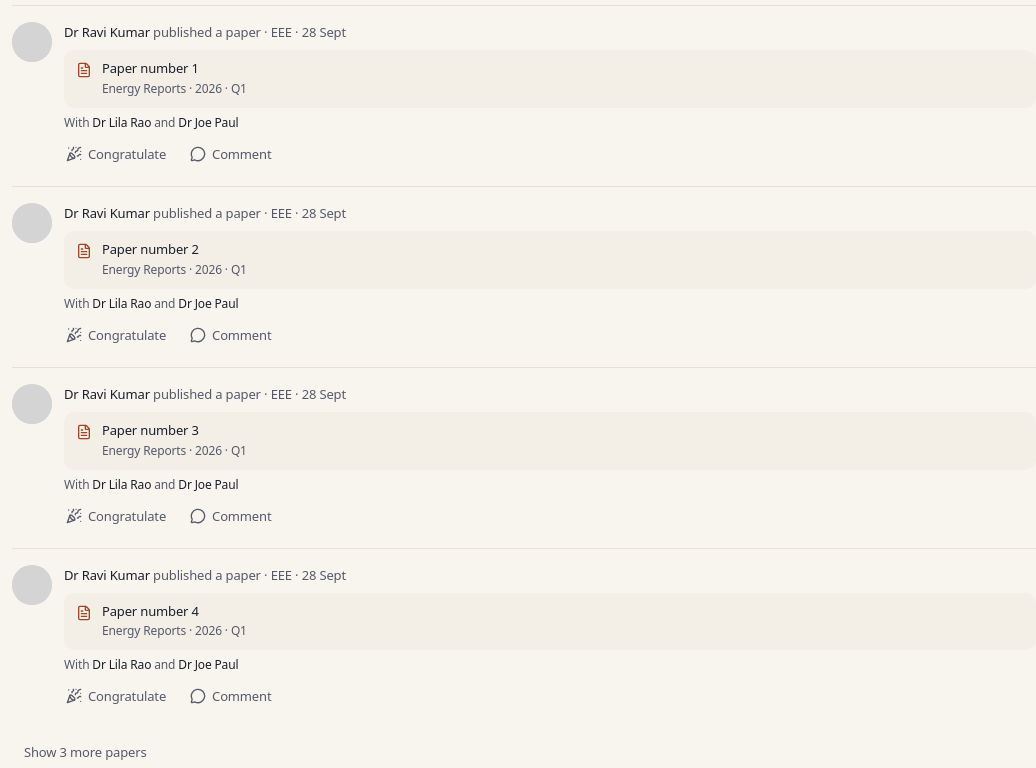
Scenario: College stream › shows five papers and keeps the rest one press away
(page scrolled)
Expected: the text "Paper number 4" is shown, [102,602,199,620]
Expected: the text "Paper number 5" is not shown
Click the button "Show 3 more papers".
click(85, 752)  # box [12,736,158,767]
(page scrolled)
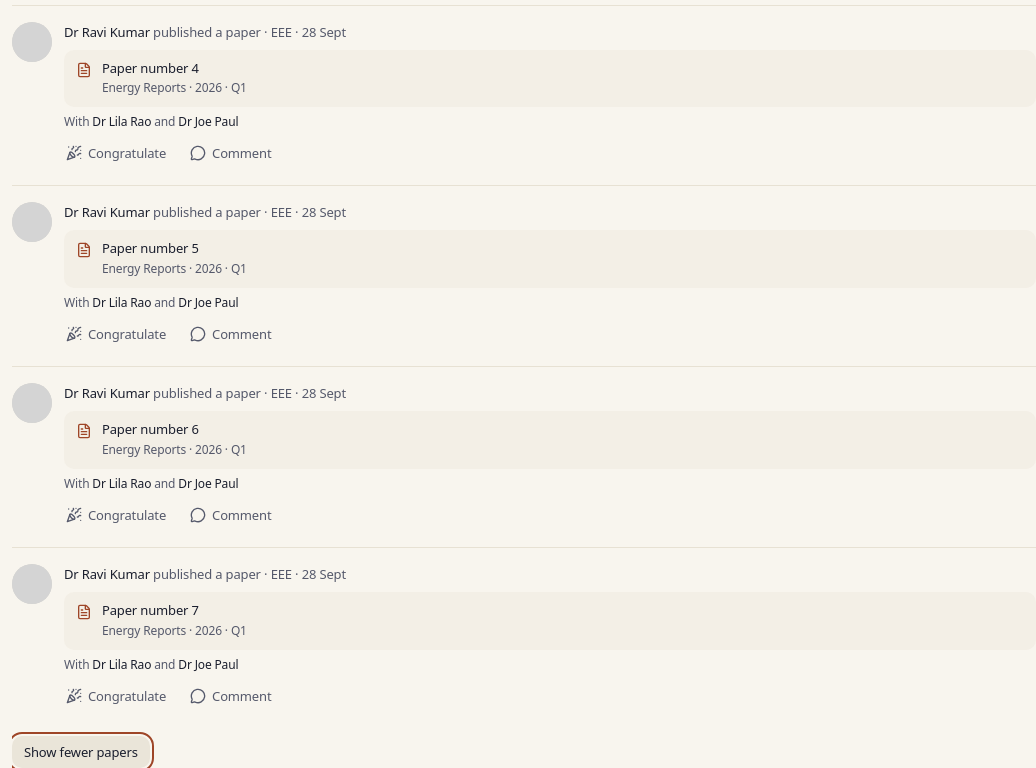
Result: the text "Paper number 7" is shown at [102,601,199,619]
